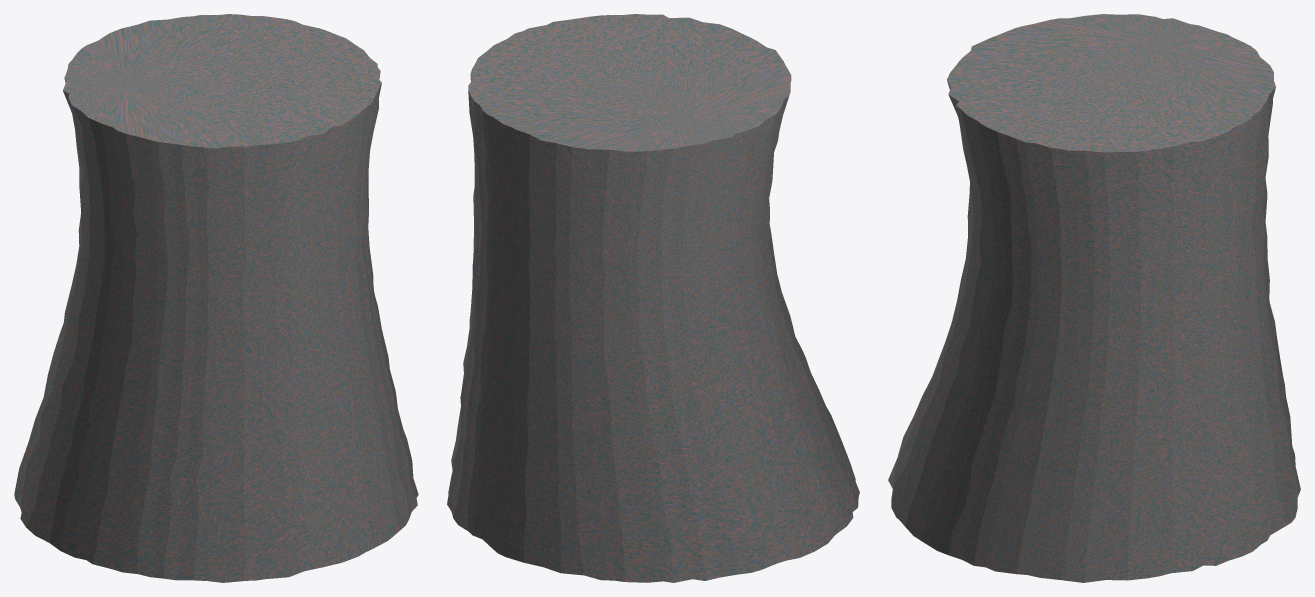
The model's file is barrel_1.dae.
The picture shows the model from 3 angles, left to right: view 1: azimuth 30°, elevation 25°; view 2: azimuth 150°, elevation 25°; view 3: azimuth 270°, elevation 25°; orthographic projection. The views are drawn at different scales.
Visible parts, largest first — view 1: Cylinder; view 2: Cylinder; view 3: Cylinder.
Boxes of the visible parts, x1,y1,x2,y2 form: Cylinder: (14,14,418,582); Cylinder: (447,14,859,582); Cylinder: (888,14,1300,582).
Bounding box in the file's own units: 0.9077 × 0.895 × 1.
1 material, 1 textured.
